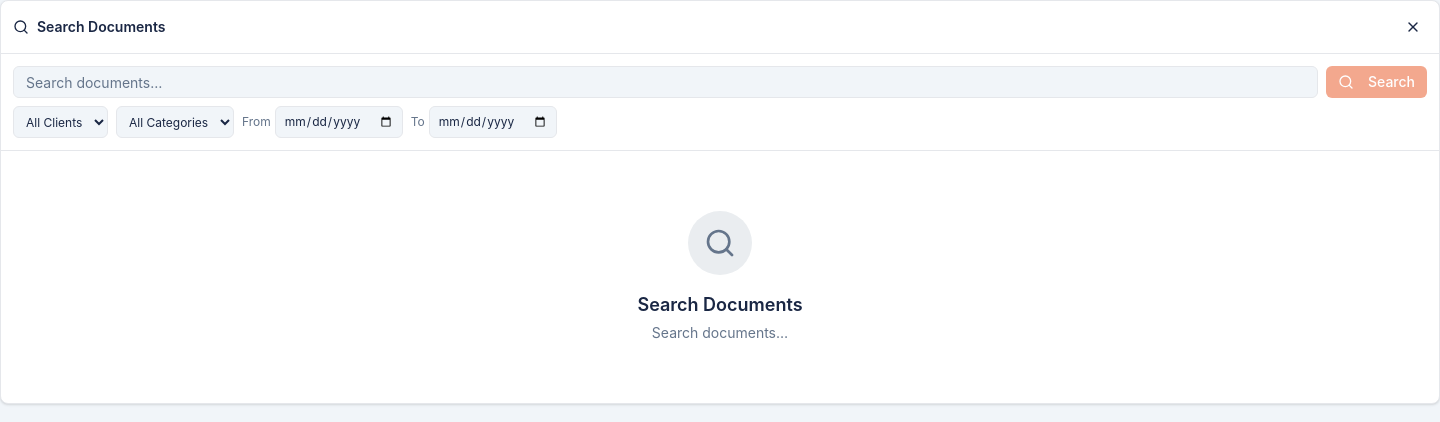
Test: DocumentSearchPanel › displays search results with document name, client, and category
Type "tax" into the field with placeholder "Search documents…" at point(666, 82), box [13,66,1318,98]
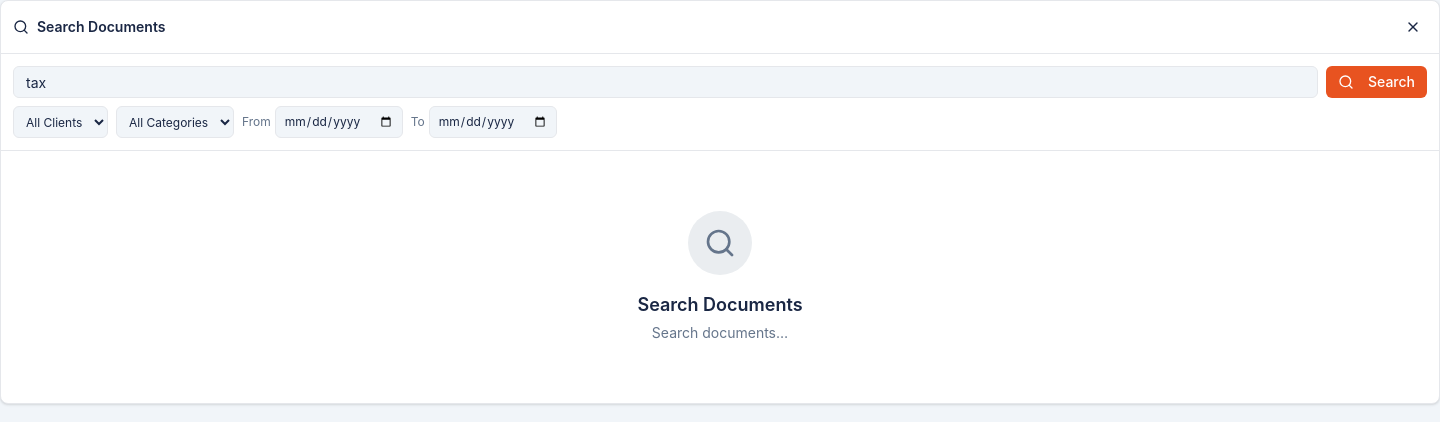
Click the button "Search" at point(1376, 82), box [1326,66,1427,98]
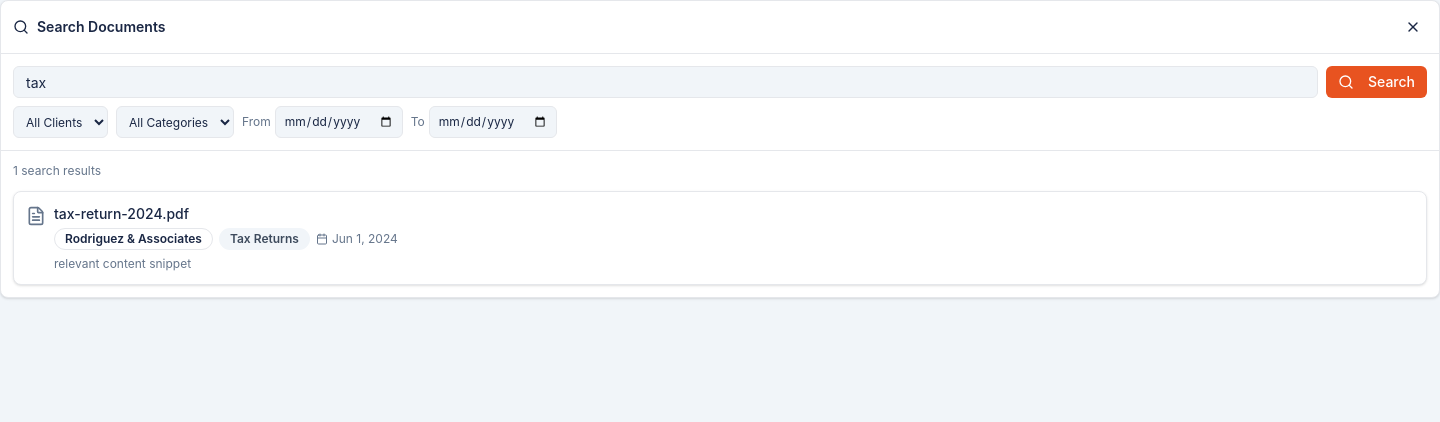
expect the text "tax-return-2024.pdf" is shown: met, box [54,205,189,222]
expect the text "Rodriguez & Associates" is shown: met, box [54,228,213,250]
expect the text "Tax Returns" is shown: met, box [219,228,310,250]
